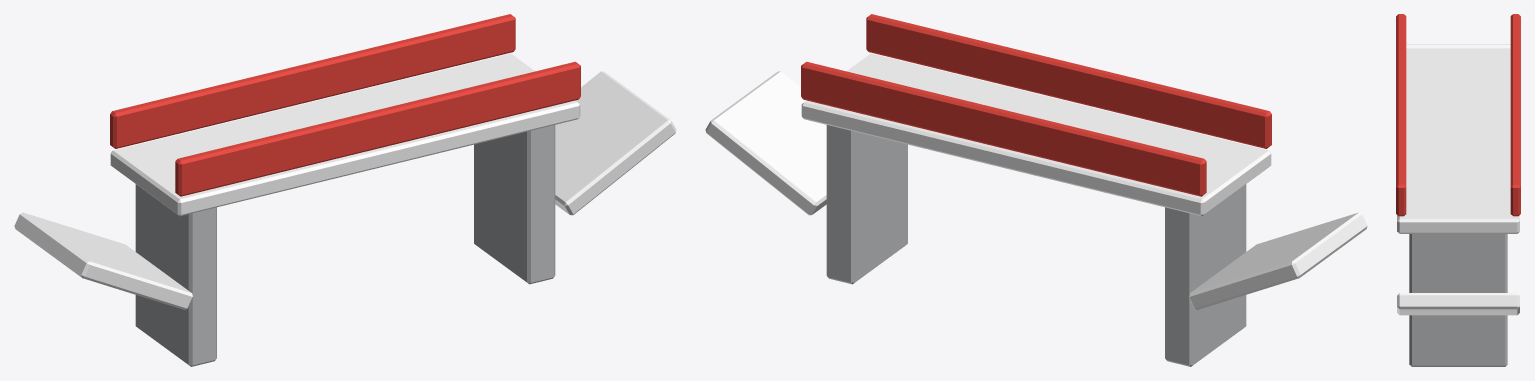
Rendered from pedestrian_bridge.glb.
3 views of the same model, side by side, from view 1: azimuth 30°, elevation 25°; view 2: azimuth 150°, elevation 25°; view 3: azimuth 270°, elevation 25° (orthographic). The views are drawn at different scales.
Visible parts, largest first — view 1: pedestrian_bridge; view 2: pedestrian_bridge; view 3: pedestrian_bridge.
Boxes of the visible parts, x1,y1,x2,y2 form: pedestrian_bridge: [14, 14, 676, 366]; pedestrian_bridge: [705, 14, 1367, 366]; pedestrian_bridge: [1396, 14, 1520, 366].
Size of the model in its own units: 1.48 by 0.5125 by 0.305.
